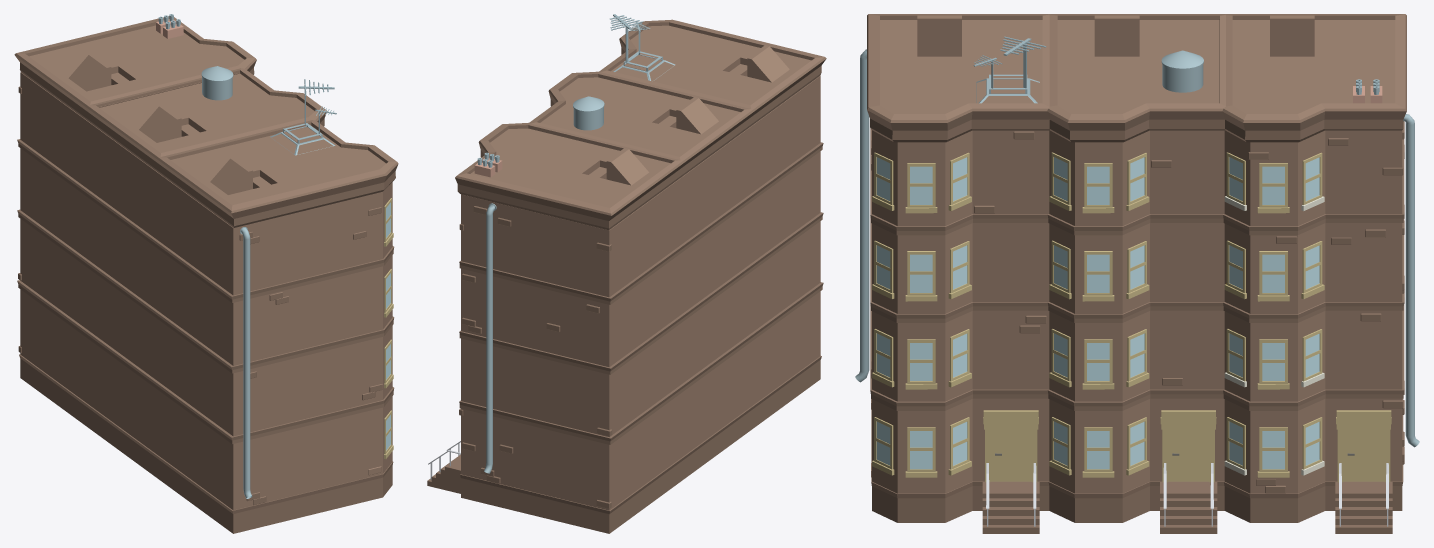
Rendered from newyorkBuilding.glb.
The picture shows the model from 3 angles, left to right: view 1: azimuth 30°, elevation 25°; view 2: azimuth 150°, elevation 25°; view 3: azimuth 270°, elevation 25°; orthographic projection. The views are drawn at different scales.
Visible parts, largest first — view 1: newyork_building; view 2: newyork_building; view 3: newyork_building.
Part boxes in pixels (x1,y1,x2,y2): newyork_building: (14,14,398,533); newyork_building: (427,14,826,533); newyork_building: (855,14,1419,533).
Bounding box in the file's own units: 21.68 × 39.76 × 44.25.
